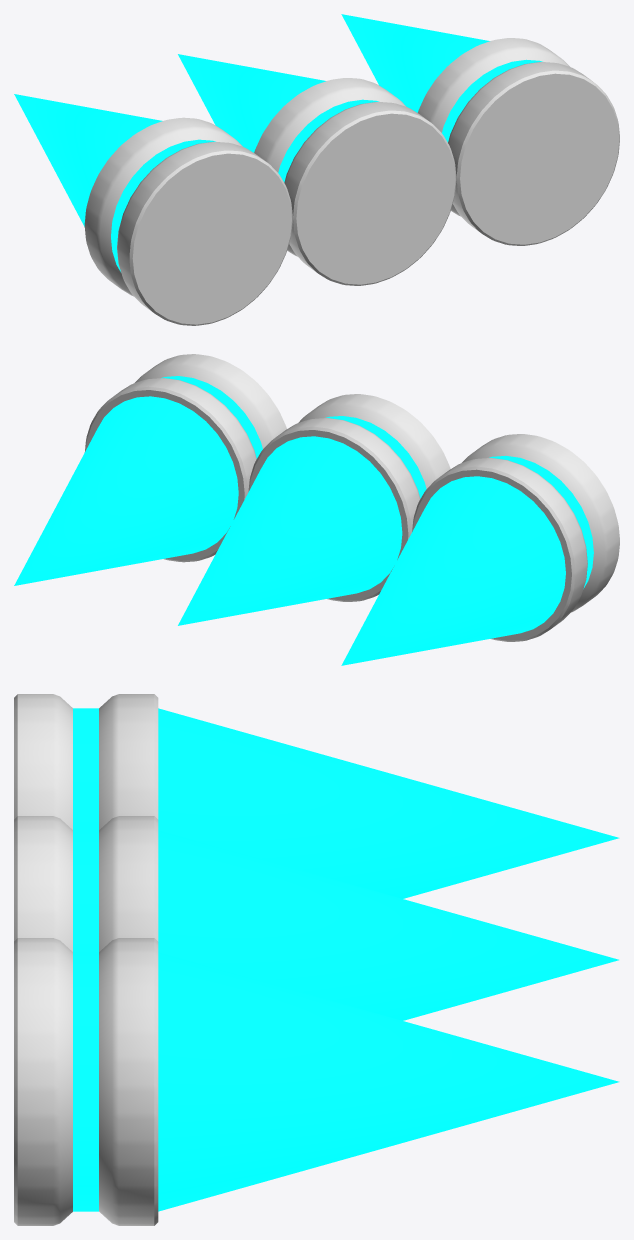
File: spikes.fbx
3 renders of one model, top to bottom at view 1: azimuth 30°, elevation 25°; view 2: azimuth 150°, elevation 25°; view 3: azimuth 270°, elevation 25°, orthographic. The views are drawn at different scales.
Parts seen in each view (by area): view 1: spikes; view 2: spikes; view 3: spikes.
Part boxes in pixels (x1,y1,x2,y2): spikes: (14,14,619,325); spikes: (14,354,619,665); spikes: (14,694,619,1225).
Size of the model in its own units: 599 by 199 by 420.
